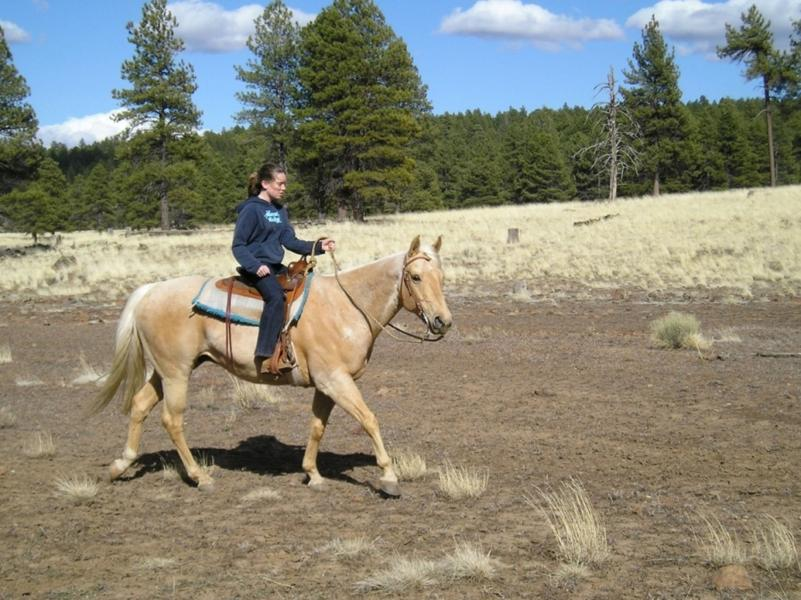person: (234, 161, 338, 377)
